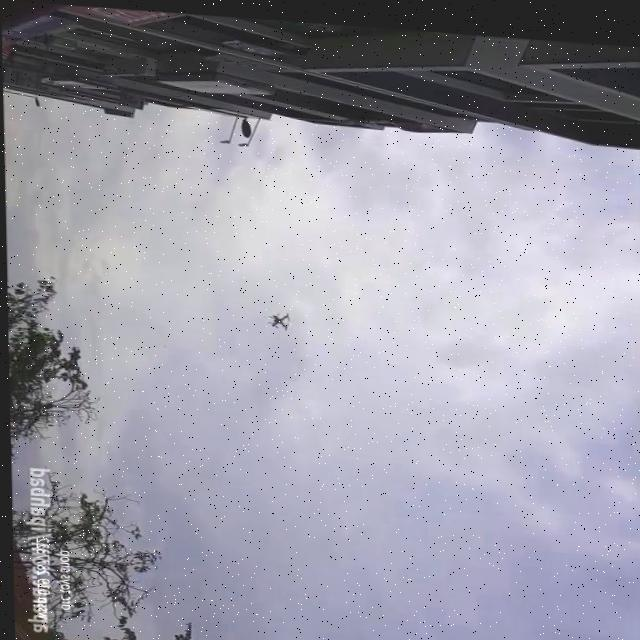drone: (265, 306, 292, 328)
